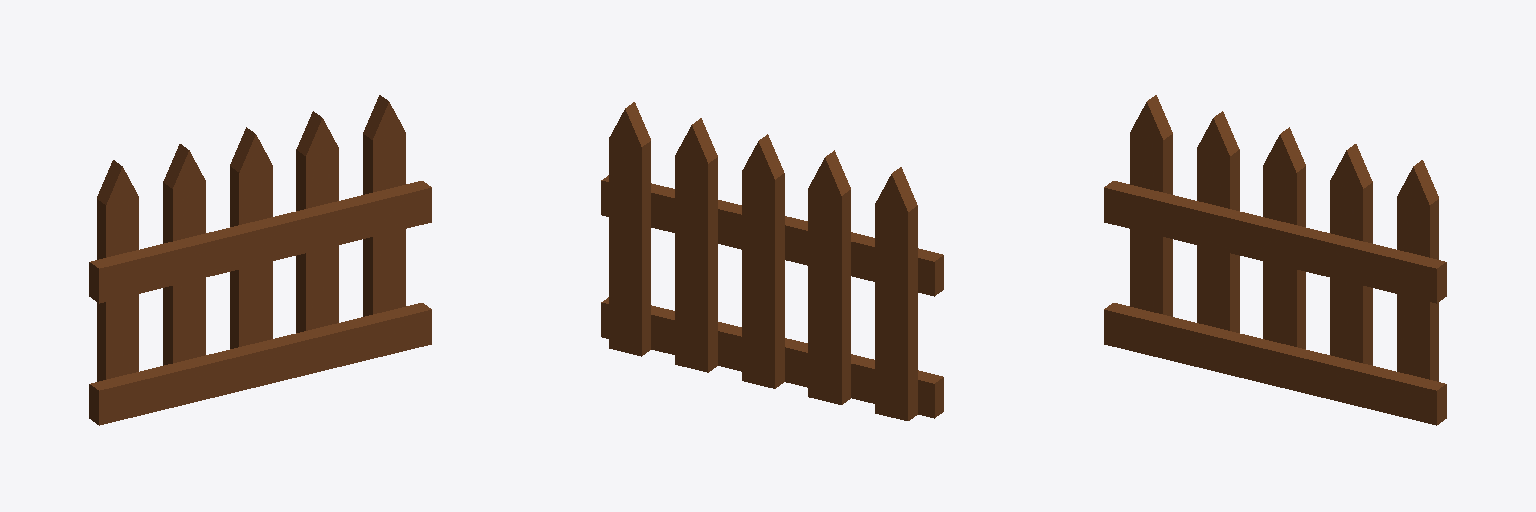
The picture shows the model from 3 angles: view 1: azimuth 30°, elevation 25°; view 2: azimuth 150°, elevation 25°; view 3: azimuth 330°, elevation 25°; orthographic projection.
Parts seen in each view (by area): view 1: Cube.001; view 2: Cube.001; view 3: Cube.001.
Boxes of the visible parts, x1,y1,x2,y2 form: Cube.001: [89, 95, 431, 425]; Cube.001: [601, 102, 943, 420]; Cube.001: [1104, 95, 1446, 425].
Bounding box in the file's own units: 1 × 0.7 × 0.1.
Materials: 1 (1 with a texture image).